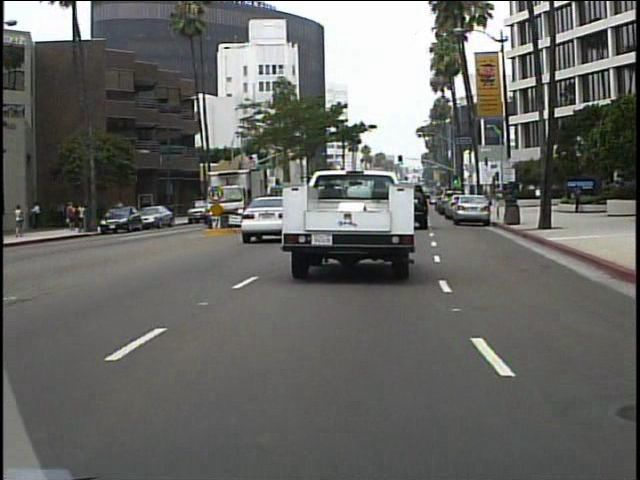person: (14, 200, 28, 239), (569, 180, 584, 215)
